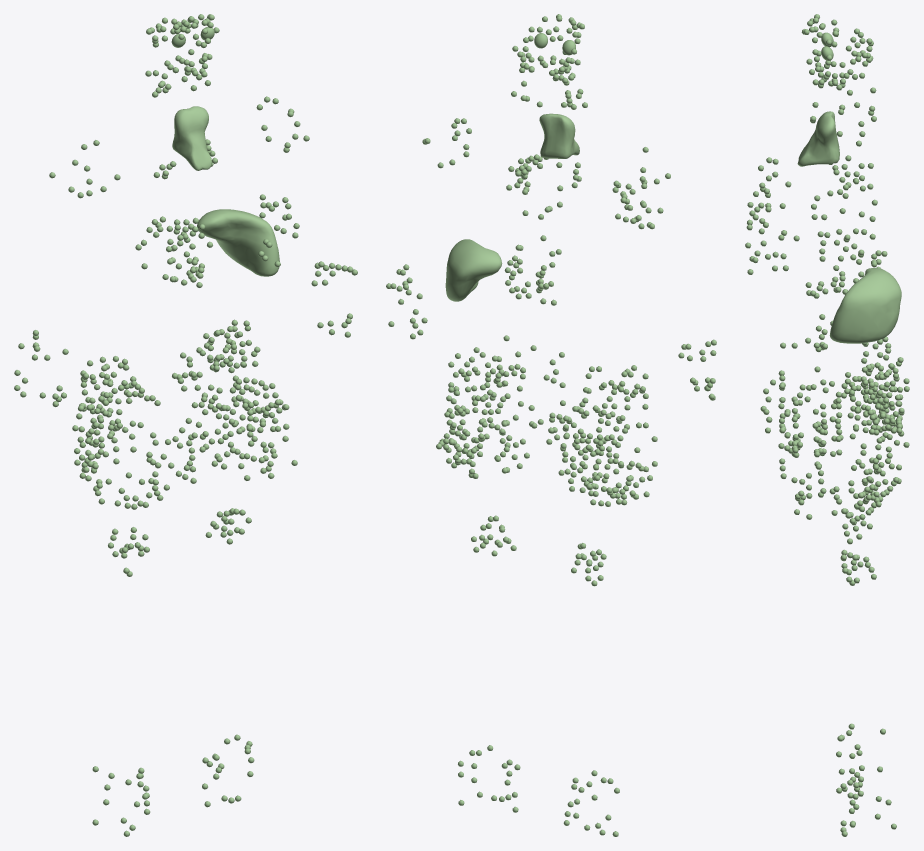
Rendered from pediatric_child_10y_female.lymphatic.LOD0.glb.
3 views of the same model, side by side, from view 1: azimuth 30°, elevation 25°; view 2: azimuth 150°, elevation 25°; view 3: azimuth 270°, elevation 25° (orthographic). The views are drawn at different scales.
Parts seen in each view (by area): view 1: PEDIATRIC.CHILD_10Y.FEMALE.LYMPHATIC.LYMPHATIC_NODES_TRUNK, PEDIATRIC.CHILD_10Y.FEMALE.LYMPHATIC.SPLEEN, PEDIATRIC.CHILD_10Y.FEMALE.LYMPHATIC.THYMUS, PEDIATRIC.CHILD_10Y.FEMALE.LYMPHATIC.LYMPHATIC_NODES_ET, PEDIATRIC.CHILD_10Y.FEMALE.LYMPHATIC.LYMPHATIC_NODES_THORACI, PEDIATRIC.CHILD_10Y.FEMALE.LYMPHATIC.LYMPHATIC_NODES_ARMS, PEDIATRIC.CHILD_10Y.FEMALE.LYMPHATIC.LYMPHATIC_NODES_LEGS; view 2: PEDIATRIC.CHILD_10Y.FEMALE.LYMPHATIC.LYMPHATIC_NODES_TRUNK, PEDIATRIC.CHILD_10Y.FEMALE.LYMPHATIC.SPLEEN, PEDIATRIC.CHILD_10Y.FEMALE.LYMPHATIC.LYMPHATIC_NODES_THORACI, PEDIATRIC.CHILD_10Y.FEMALE.LYMPHATIC.THYMUS, PEDIATRIC.CHILD_10Y.FEMALE.LYMPHATIC.LYMPHATIC_NODES_ET, PEDIATRIC.CHILD_10Y.FEMALE.LYMPHATIC.LYMPHATIC_NODES_LEGS, PEDIATRIC.CHILD_10Y.FEMALE.LYMPHATIC.LYMPHATIC_NODES_ARMS; view 3: PEDIATRIC.CHILD_10Y.FEMALE.LYMPHATIC.LYMPHATIC_NODES_TRUNK, PEDIATRIC.CHILD_10Y.FEMALE.LYMPHATIC.SPLEEN, PEDIATRIC.CHILD_10Y.FEMALE.LYMPHATIC.LYMPHATIC_NODES_ET, PEDIATRIC.CHILD_10Y.FEMALE.LYMPHATIC.THYMUS, PEDIATRIC.CHILD_10Y.FEMALE.LYMPHATIC.LYMPHATIC_NODES_ARMS, PEDIATRIC.CHILD_10Y.FEMALE.LYMPHATIC.LYMPHATIC_NODES_THORACI, PEDIATRIC.CHILD_10Y.FEMALE.LYMPHATIC.LYMPHATIC_NODES_LEGS, PEDIATRIC.CHILD_10Y.FEMALE.LYMPHATIC.LYMPHATIC_NODES_HEAD.
Boxes of the visible parts, x1,y1,x2,y2 form: PEDIATRIC.CHILD_10Y.FEMALE.LYMPHATIC.LYMPHATIC_NODES_TRUNK: (49, 96, 309, 576); PEDIATRIC.CHILD_10Y.FEMALE.LYMPHATIC.SPLEEN: (197, 209, 279, 276); PEDIATRIC.CHILD_10Y.FEMALE.LYMPHATIC.THYMUS: (172, 106, 212, 170); PEDIATRIC.CHILD_10Y.FEMALE.LYMPHATIC.LYMPHATIC_NODES_ET: (146, 14, 219, 76); PEDIATRIC.CHILD_10Y.FEMALE.LYMPHATIC.LYMPHATIC_NODES_THORACI: (141, 139, 217, 287); PEDIATRIC.CHILD_10Y.FEMALE.LYMPHATIC.LYMPHATIC_NODES_ARMS: (14, 261, 357, 407); PEDIATRIC.CHILD_10Y.FEMALE.LYMPHATIC.LYMPHATIC_NODES_LEGS: (92, 734, 254, 836); PEDIATRIC.CHILD_10Y.FEMALE.LYMPHATIC.LYMPHATIC_NODES_TRUNK: (422, 118, 670, 586); PEDIATRIC.CHILD_10Y.FEMALE.LYMPHATIC.SPLEEN: (445, 239, 502, 301); PEDIATRIC.CHILD_10Y.FEMALE.LYMPHATIC.LYMPHATIC_NODES_THORACI: (504, 154, 581, 305); PEDIATRIC.CHILD_10Y.FEMALE.LYMPHATIC.THYMUS: (539, 113, 579, 158); PEDIATRIC.CHILD_10Y.FEMALE.LYMPHATIC.LYMPHATIC_NODES_ET: (512, 14, 584, 80); PEDIATRIC.CHILD_10Y.FEMALE.LYMPHATIC.LYMPHATIC_NODES_LEGS: (458, 745, 619, 836); PEDIATRIC.CHILD_10Y.FEMALE.LYMPHATIC.LYMPHATIC_NODES_ARMS: (386, 264, 716, 400); PEDIATRIC.CHILD_10Y.FEMALE.LYMPHATIC.LYMPHATIC_NODES_TRUNK: (745, 80, 909, 585); PEDIATRIC.CHILD_10Y.FEMALE.LYMPHATIC.SPLEEN: (829, 267, 901, 343); PEDIATRIC.CHILD_10Y.FEMALE.LYMPHATIC.LYMPHATIC_NODES_ET: (801, 14, 873, 85); PEDIATRIC.CHILD_10Y.FEMALE.LYMPHATIC.THYMUS: (797, 111, 839, 166); PEDIATRIC.CHILD_10Y.FEMALE.LYMPHATIC.LYMPHATIC_NODES_ARMS: (805, 231, 858, 442); PEDIATRIC.CHILD_10Y.FEMALE.LYMPHATIC.LYMPHATIC_NODES_THORACI: (822, 155, 887, 294); PEDIATRIC.CHILD_10Y.FEMALE.LYMPHATIC.LYMPHATIC_NODES_LEGS: (836, 723, 896, 836); PEDIATRIC.CHILD_10Y.FEMALE.LYMPHATIC.LYMPHATIC_NODES_HEAD: (812, 62, 876, 114).
Bounding box in the file's own units: 0.3952 × 0.9149 × 0.1718.
